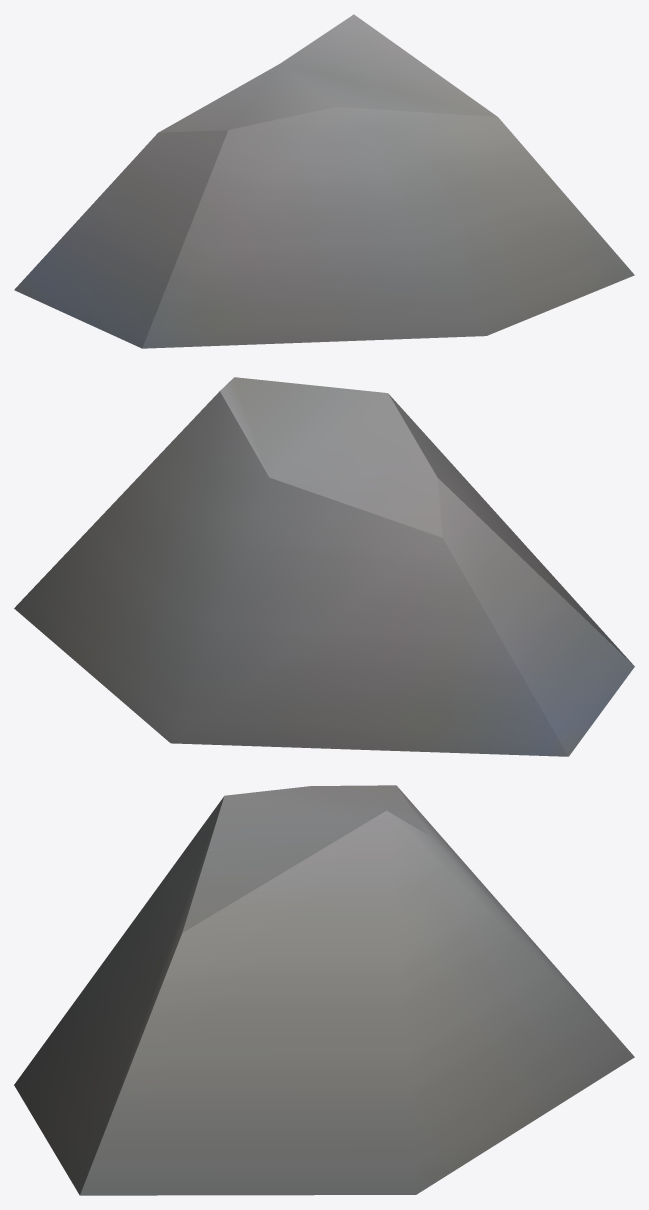
The picture shows the model from 3 angles, top to bottom: view 1: azimuth 30°, elevation 25°; view 2: azimuth 150°, elevation 25°; view 3: azimuth 270°, elevation 25°; orthographic projection. The views are drawn at different scales.
Visible parts, largest first — view 1: Rock003; view 2: Rock003; view 3: Rock003.
Part boxes in pixels (<box>): Rock003: <box>14,14,634,348</box>; Rock003: <box>14,377,634,756</box>; Rock003: <box>14,785,634,1195</box>.
Bounding box in the file's own units: 4.8 × 2.05 × 4.11.
1 material, 1 textured.
